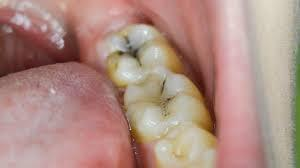Caries: (115, 33, 148, 69), (158, 78, 176, 103)
